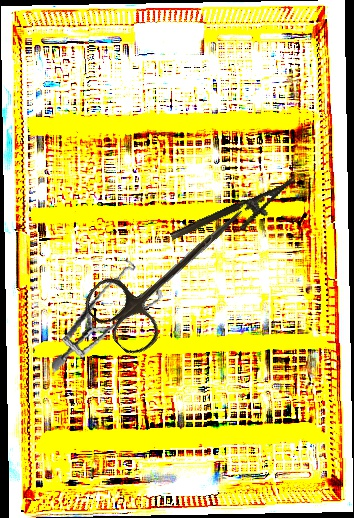Iris Scissors: (78, 178, 267, 362)
Needle Holder: (169, 176, 305, 258)
Speculum: (34, 254, 174, 373)
